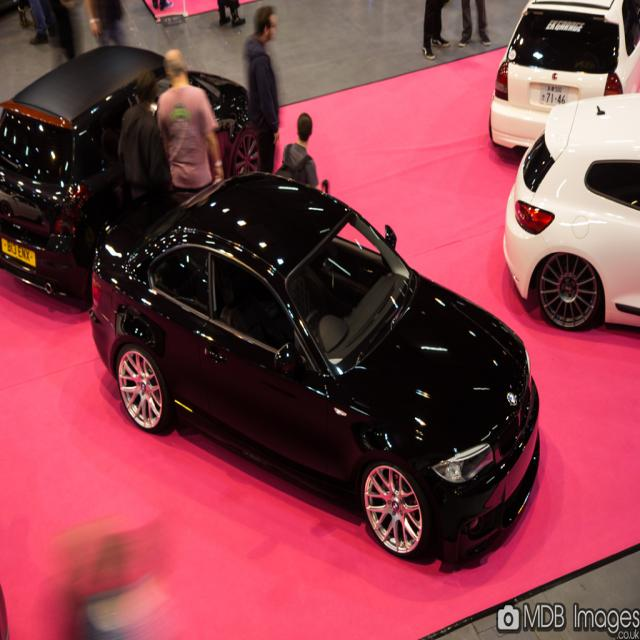car: (88, 166, 543, 568)
